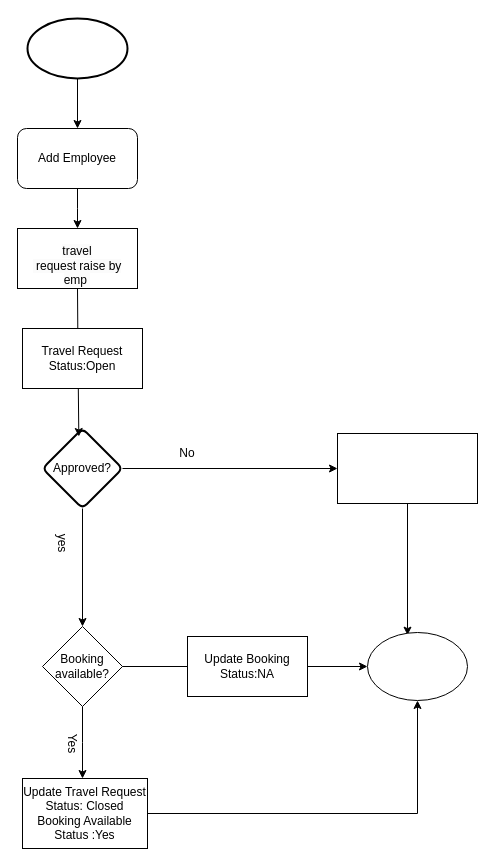
Some shapes in this 495 by 866 pixel diagram are drawn without their labels. The centre of each missing label's shape, as x and y in pixels:
"End" belongs at point (417, 666).
"Start" belongs at point (77, 48).
"Update Approve Status:NA Travel Request Status :Close" belongs at point (407, 468).
